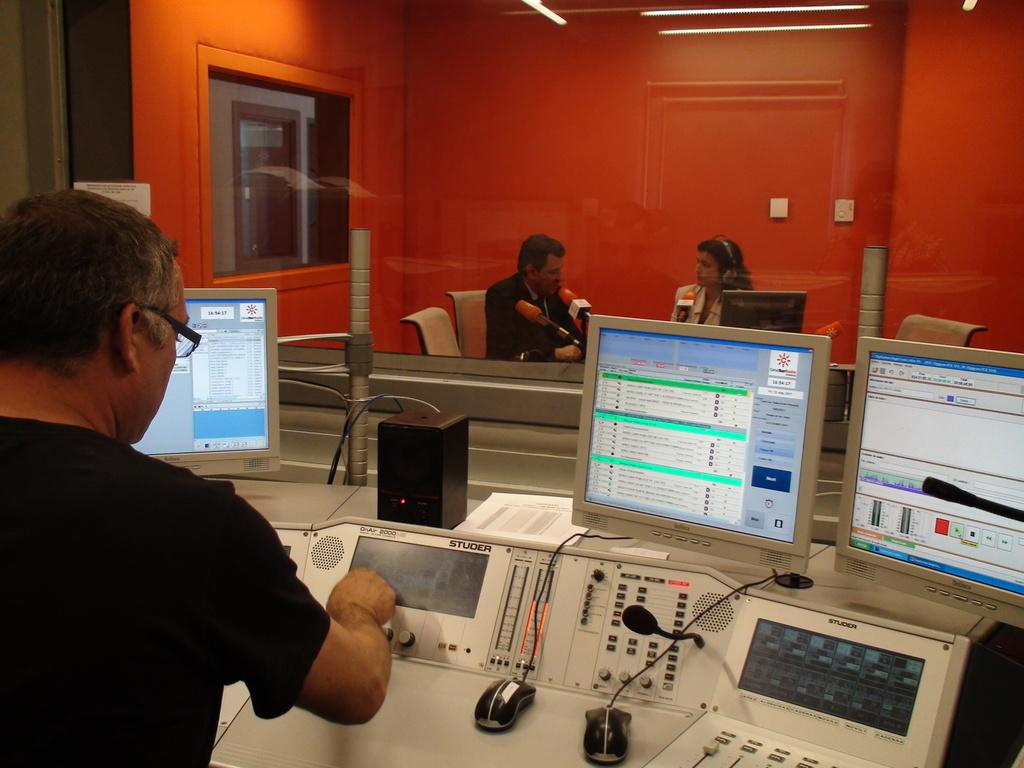Computer-monitor: (577, 326, 845, 609), (831, 336, 1023, 632), (129, 287, 278, 477), (723, 284, 810, 331)
